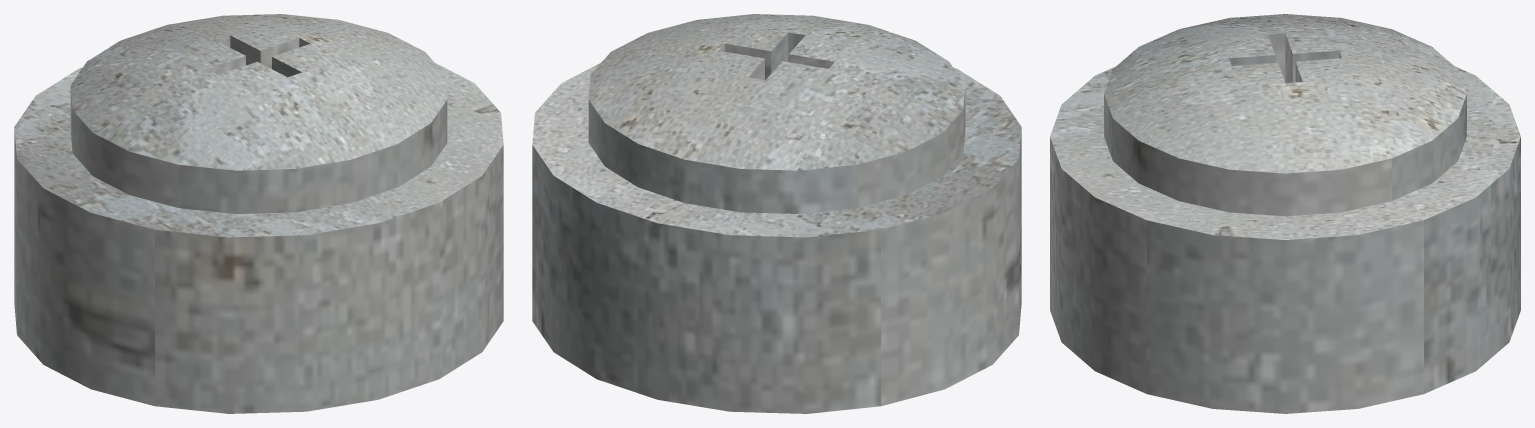
The model's file is F_RangeSelect_Frame_Screw_01.fbx.
3 renders of one model, left to right at view 1: azimuth 30°, elevation 25°; view 2: azimuth 150°, elevation 25°; view 3: azimuth 270°, elevation 25°, orthographic.
Parts seen in each view (by area): view 1: F_RangeSelect_Frame_Screw_01; view 2: F_RangeSelect_Frame_Screw_01; view 3: F_RangeSelect_Frame_Screw_01.
Part boxes in pixels (x1,y1,x2,y2): F_RangeSelect_Frame_Screw_01: (14,14,503,413); F_RangeSelect_Frame_Screw_01: (532,14,1021,413); F_RangeSelect_Frame_Screw_01: (1050,14,1520,413).
Size of the model in its own units: 7.39 by 4.19 by 7.1.
Materials: 1 (1 with a texture image).
